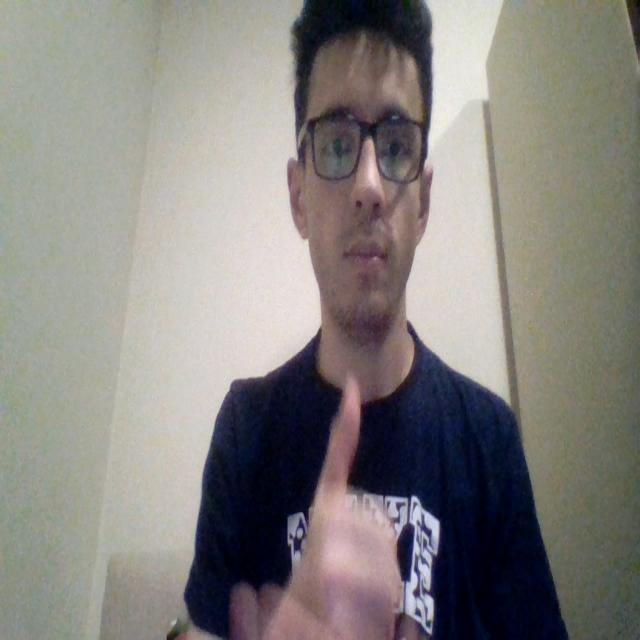help: (247, 378, 403, 640)
